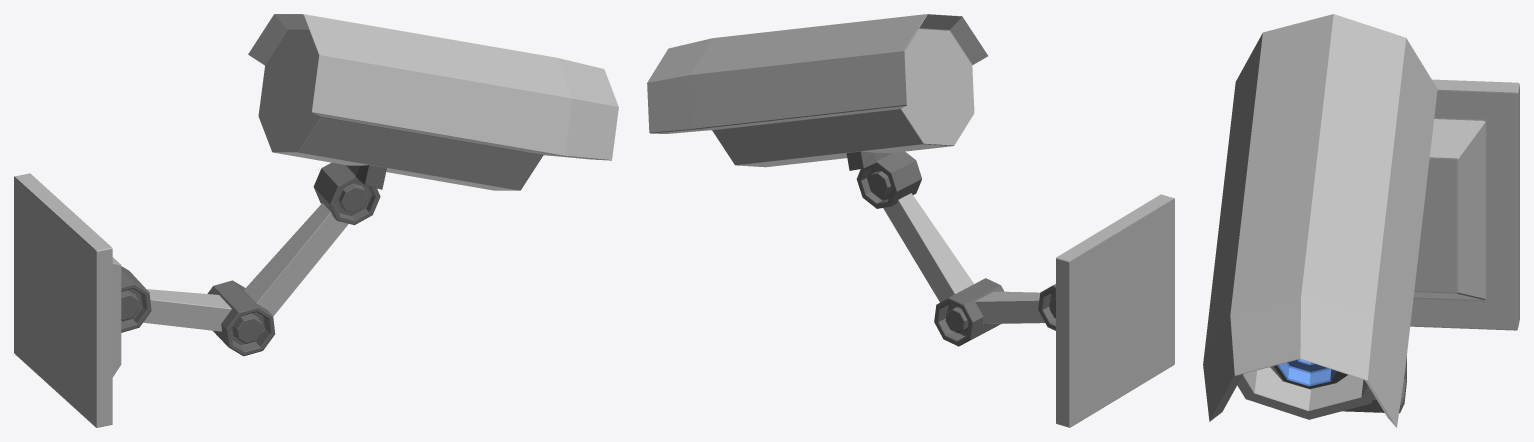
The model's file is SM_Camera.fbx.
3 views of the same model, side by side, from view 1: azimuth 30°, elevation 25°; view 2: azimuth 150°, elevation 25°; view 3: azimuth 270°, elevation 25° (orthographic). The views are drawn at different scales.
Parts seen in each view (by area): view 1: SM_Camera; view 2: SM_Camera; view 3: SM_Camera.
Part boxes in pixels (x1,y1,x2,y2): SM_Camera: (14, 14, 618, 427); SM_Camera: (647, 14, 1174, 427); SM_Camera: (1203, 14, 1519, 427).
Size of the model in its own units: 120 by 46.76 by 73.46.
1 material, 1 textured.
